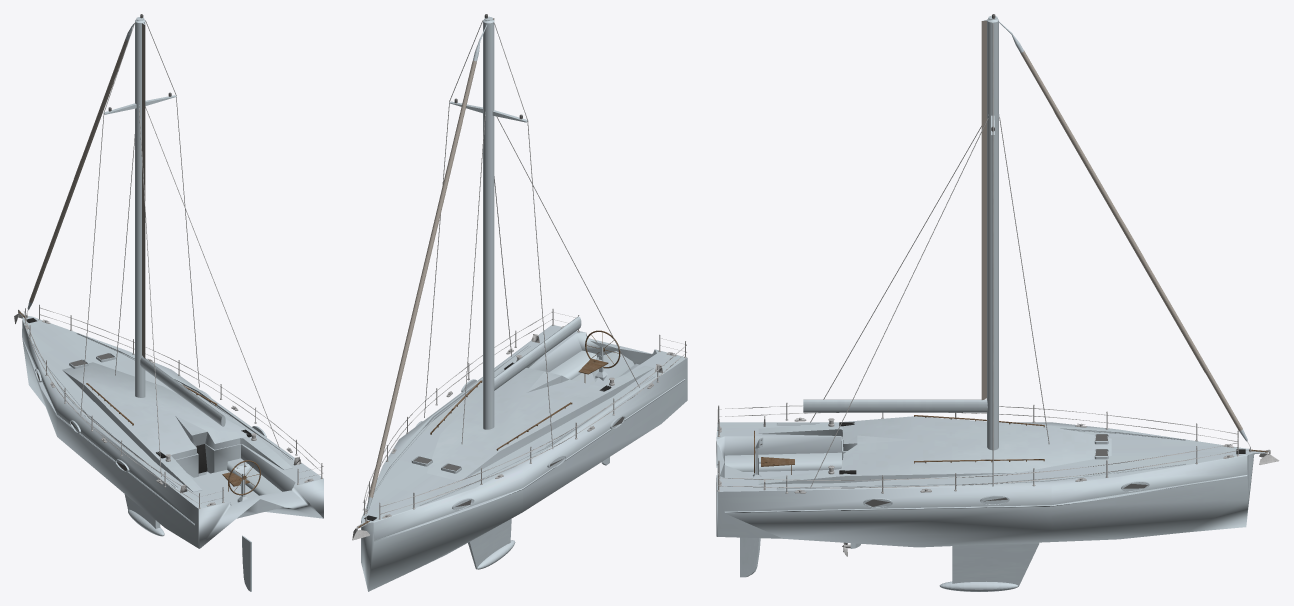
Rendered from velero.glb.
3 views of the same model, side by side, from view 1: azimuth 30°, elevation 25°; view 2: azimuth 150°, elevation 25°; view 3: azimuth 270°, elevation 25° (orthographic). The views are drawn at different scales.
Parts seen in each view (by area): view 1: govde_fiberglass_0, ustgovde_fiberglass_0, direk_fiberglass_0, ip.001_metal_0, yankoruma_metal_0 (×2), camadanyelkeni_bez_0, direk_bez_0, salma_fiberglass_0, object 33; view 2: govde_fiberglass_0, ustgovde_fiberglass_0, direk_fiberglass_0, camadanyelkeni_bez_0, ip.001_metal_0, yankoruma_metal_0 (×2), salma_fiberglass_0, yancam.002_fiberglass_0; view 3: govde_fiberglass_0, ustgovde_fiberglass_0, direk_fiberglass_0, salma_fiberglass_0, yankoruma_metal_0 (×2), camadanyelkeni_bez_0, ip.001_metal_0, direk_bez_0, object 33.
Boxes of the visible parts, x1,y1,x2,y2 form: govde_fiberglass_0: (19, 313, 323, 548); ustgovde_fiberglass_0: (62, 362, 292, 492); direk_fiberglass_0: (104, 17, 225, 426); ip.001_metal_0: (80, 20, 279, 476); yankoruma_metal_0 (×2): (24, 304, 323, 503); camadanyelkeni_bez_0: (29, 39, 127, 302); direk_bez_0: (142, 23, 145, 358); salma_fiberglass_0: (124, 494, 164, 536); object 33: (242, 535, 251, 591); govde_fiberglass_0: (358, 325, 687, 591); ustgovde_fiberglass_0: (427, 349, 653, 481); direk_fiberglass_0: (449, 16, 581, 429); camadanyelkeni_bez_0: (368, 60, 476, 497); ip.001_metal_0: (424, 20, 639, 448); yankoruma_metal_0 (×2): (363, 308, 686, 519); salma_fiberglass_0: (468, 518, 515, 569); yancam.002_fiberglass_0: (415, 379, 625, 510); govde_fiberglass_0: (716, 422, 1267, 547); ustgovde_fiberglass_0: (758, 416, 1111, 484); direk_fiberglass_0: (803, 15, 999, 450); salma_fiberglass_0: (939, 542, 1039, 591); yankoruma_metal_0 (×2): (717, 405, 1239, 493); camadanyelkeni_bez_0: (1020, 50, 1242, 431); ip.001_metal_0: (810, 23, 1049, 488); direk_bez_0: (981, 20, 986, 399); object 33: (740, 537, 760, 577).
Size of the model in its own units: 3.24 by 11.32 by 10.
Materials: 6 (5 with a texture image).
